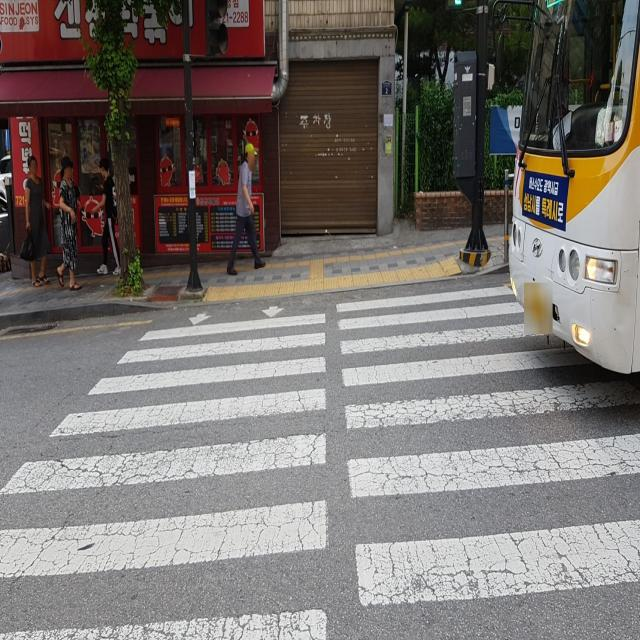횡단보도: (2, 278, 638, 636)
